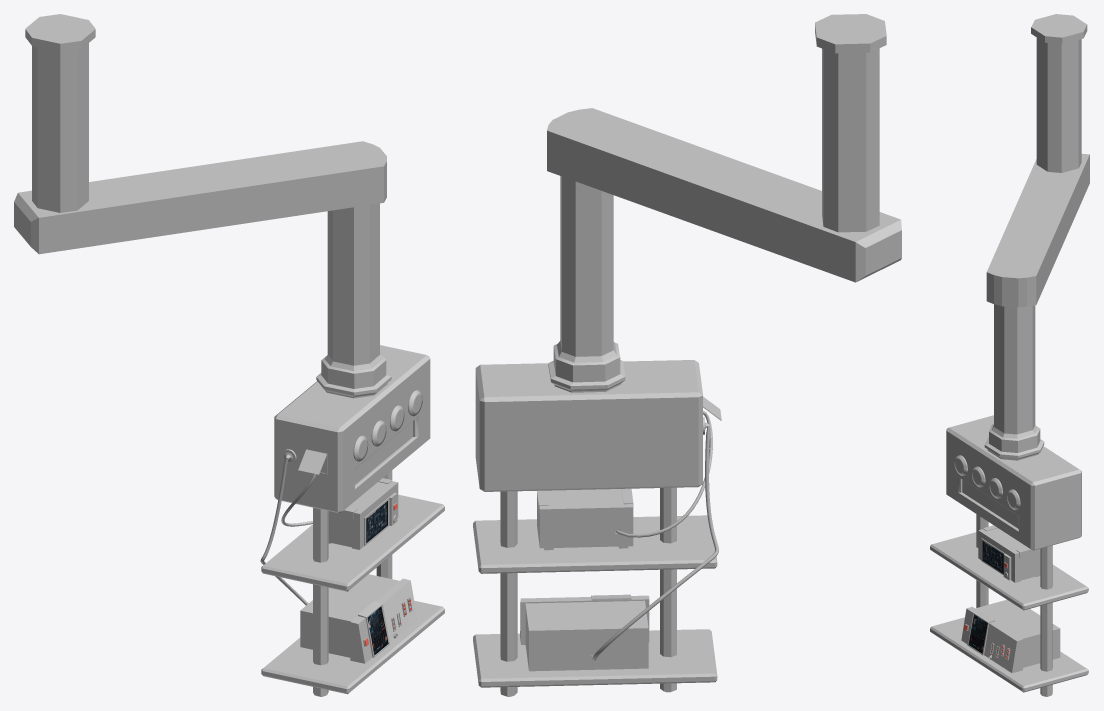
Rendered from Machine part anayltic.fbx.
The picture shows the model from 3 angles, left to right: view 1: azimuth 30°, elevation 25°; view 2: azimuth 150°, elevation 25°; view 3: azimuth 270°, elevation 25°; orthographic projection. The views are drawn at different scales.
Visible parts, largest first — view 1: pCube82, pCube84, pCube81, pCube83, pCube88, polySurface3, pCube89, polySurface1, pCylinder68, pCylinder67; view 2: pCube84, pCube82, pCube81, pCube83, polySurface3, pCube88, pCube89, polySurface1, pCylinder69, pCylinder68, pCylinder67, pCylinder85; view 3: pCube84, pCube82, pCube81, pCube83, polySurface3, pCube88, pCube89, polySurface1, pCylinder69, pCylinder68, polySurface4, polySurface2.
Part boxes in pixels (bbox=[...]): pCube82: bbox=[14, 141, 386, 254]; pCube84: bbox=[274, 345, 430, 513]; pCube81: bbox=[25, 14, 95, 212]; pCube83: bbox=[316, 203, 391, 398]; pCube88: bbox=[261, 494, 444, 591]; polySurface3: bbox=[300, 574, 417, 663]; pCube89: bbox=[261, 600, 444, 694]; polySurface1: bbox=[328, 478, 398, 548]; pCylinder68: bbox=[313, 507, 328, 696]; pCylinder67: bbox=[260, 449, 308, 605]; pCube84: bbox=[475, 360, 702, 491]; pCube82: bbox=[547, 108, 901, 282]; pCube81: bbox=[815, 14, 886, 232]; pCube83: bbox=[548, 176, 625, 392]; polySurface3: bbox=[520, 594, 649, 671]; pCube88: bbox=[473, 515, 717, 573]; pCube89: bbox=[473, 629, 717, 687]; polySurface1: bbox=[537, 488, 633, 548]; pCylinder69: bbox=[500, 491, 517, 696]; pCylinder68: bbox=[660, 487, 676, 692]; pCylinder67: bbox=[592, 417, 718, 660]; pCylinder85: bbox=[616, 410, 712, 537]; pCube84: bbox=[946, 415, 1081, 550]; pCube82: bbox=[986, 153, 1089, 307]; pCube81: bbox=[1031, 14, 1087, 172]; pCube83: bbox=[984, 304, 1044, 460]; polySurface3: bbox=[961, 599, 1060, 673]; pCube88: bbox=[930, 532, 1088, 610]; pCube89: bbox=[930, 617, 1088, 692]; polySurface1: bbox=[978, 525, 1040, 581]; pCylinder69: bbox=[1040, 545, 1052, 696]; pCylinder68: bbox=[976, 514, 988, 607]; polySurface4: bbox=[968, 614, 987, 653]; polySurface2: bbox=[982, 541, 1003, 573].
Bounding box in the file's own units: 5.33 × 8.71 × 2.31.
